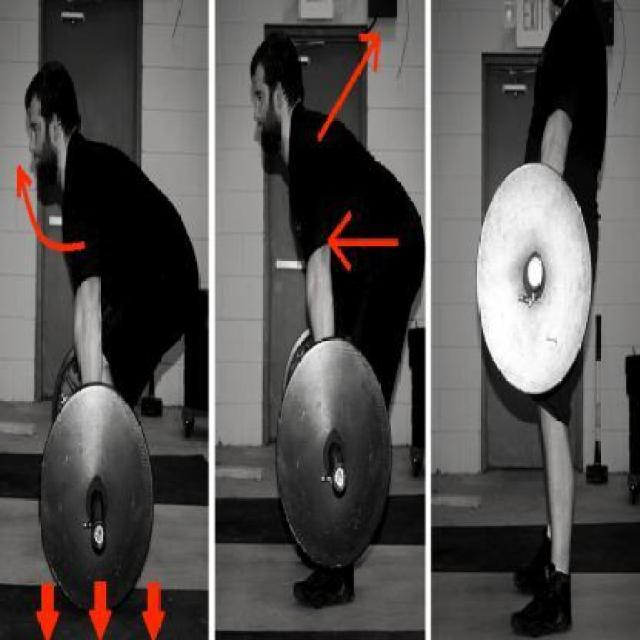barbell: (474, 159, 603, 400), (274, 335, 396, 576), (37, 381, 158, 617)
